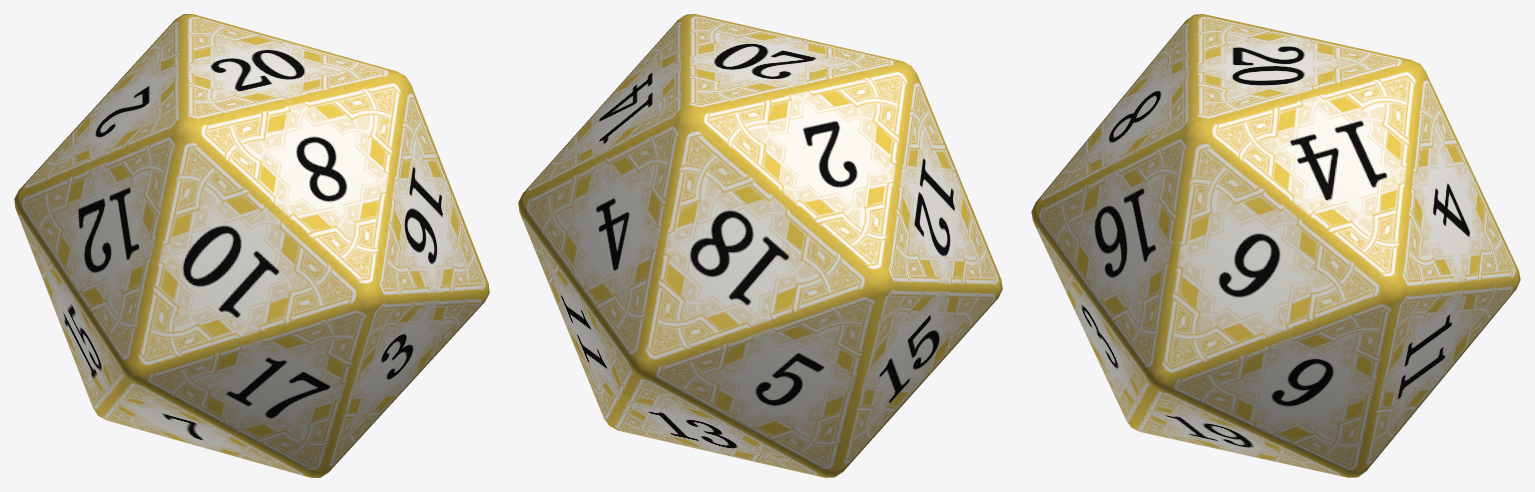
Rendered from test24scale.glb.
3 renders of one model, left to right at view 1: azimuth 30°, elevation 25°; view 2: azimuth 150°, elevation 25°; view 3: azimuth 270°, elevation 25°, orthographic.
Visible parts, largest first — view 1: DiceLink; view 2: DiceLink; view 3: DiceLink.
Part boxes in pixels (x1,y1,x2,y2): DiceLink: [14, 14, 489, 477]; DiceLink: [518, 14, 1002, 477]; DiceLink: [1031, 14, 1520, 477].
Bounding box in the file's own units: 0.5879 × 0.5645 × 0.6731.
Materials: 2 (1 with a texture image).
